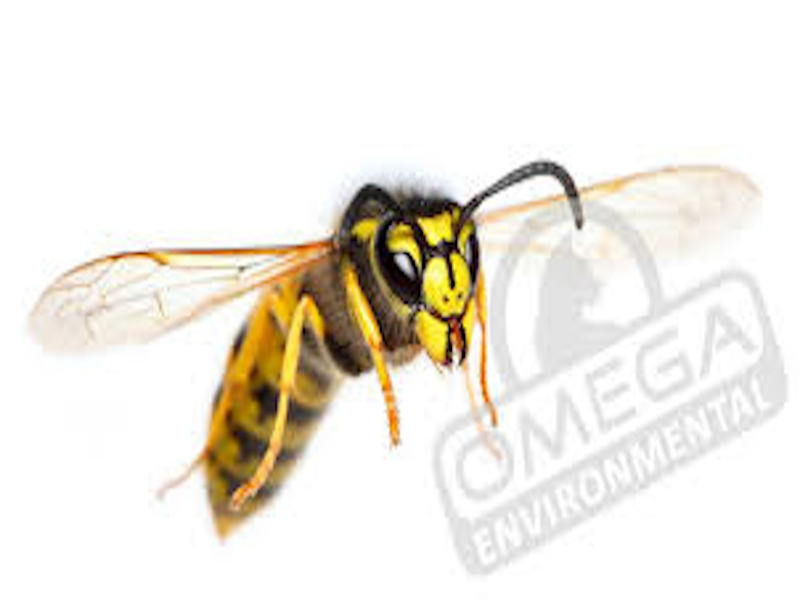chax: (36, 120, 603, 530)
